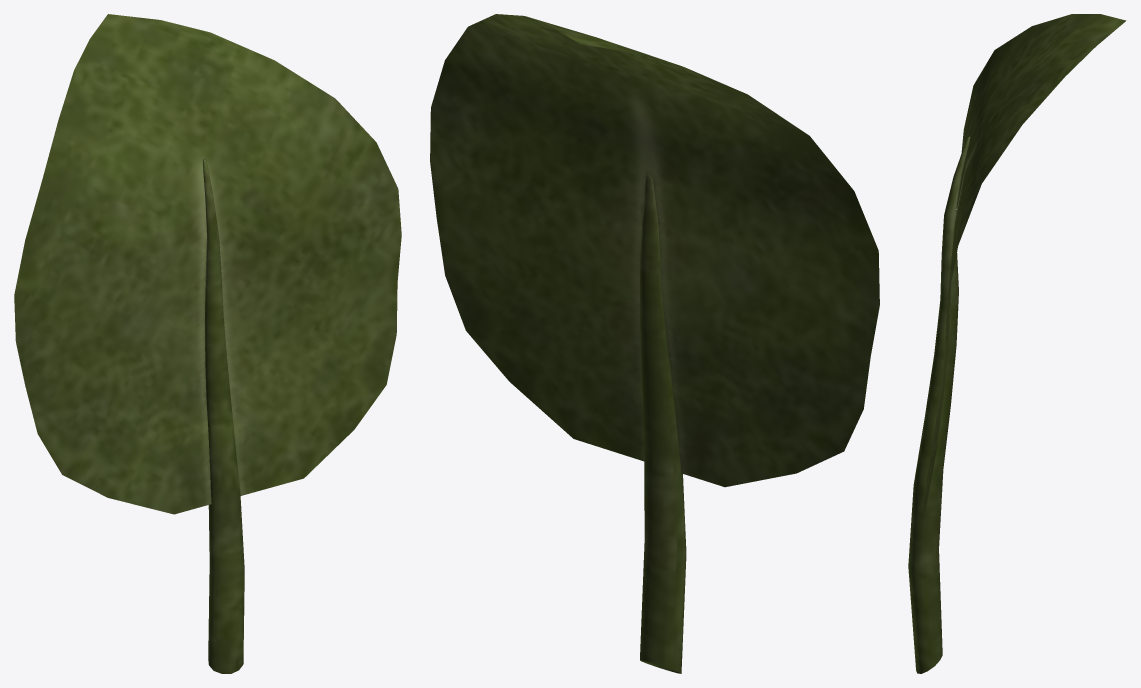
Rendered from rose-leaf.glb.
The picture shows the model from 3 angles, left to right: view 1: azimuth 30°, elevation 25°; view 2: azimuth 150°, elevation 25°; view 3: azimuth 270°, elevation 25°; orthographic projection. The views are drawn at different scales.
Visible parts, largest first — view 1: rose-leaf; view 2: rose-leaf; view 3: rose-leaf.
Boxes of the visible parts, <box> form: rose-leaf: <box>14,14,401,673</box>; rose-leaf: <box>430,14,879,673</box>; rose-leaf: <box>908,14,1126,673</box>.
Bounding box in the file's own units: 0.6667 × 1 × 0.3108.
1 material, 1 textured.
